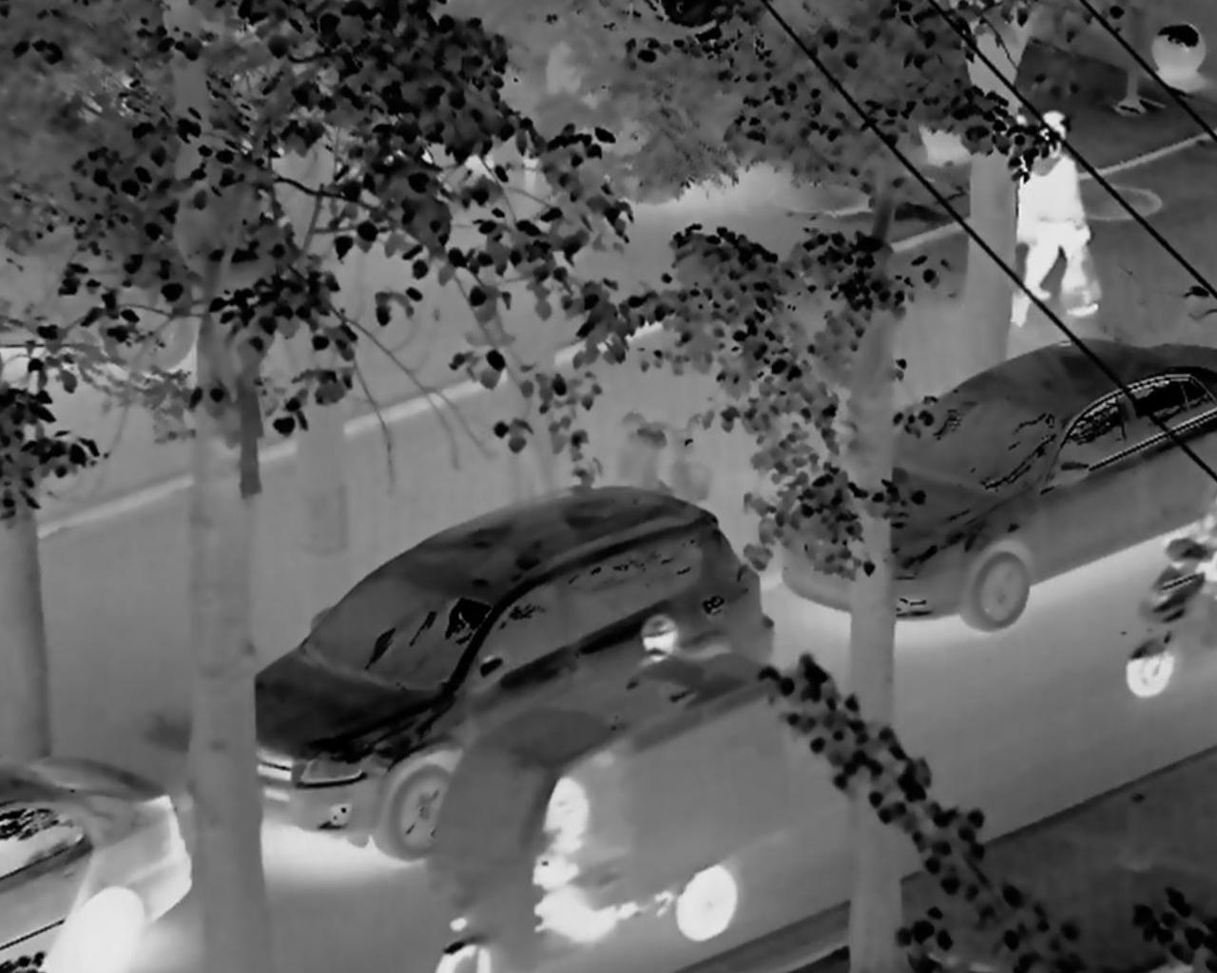person: (1018, 115, 1100, 336)
